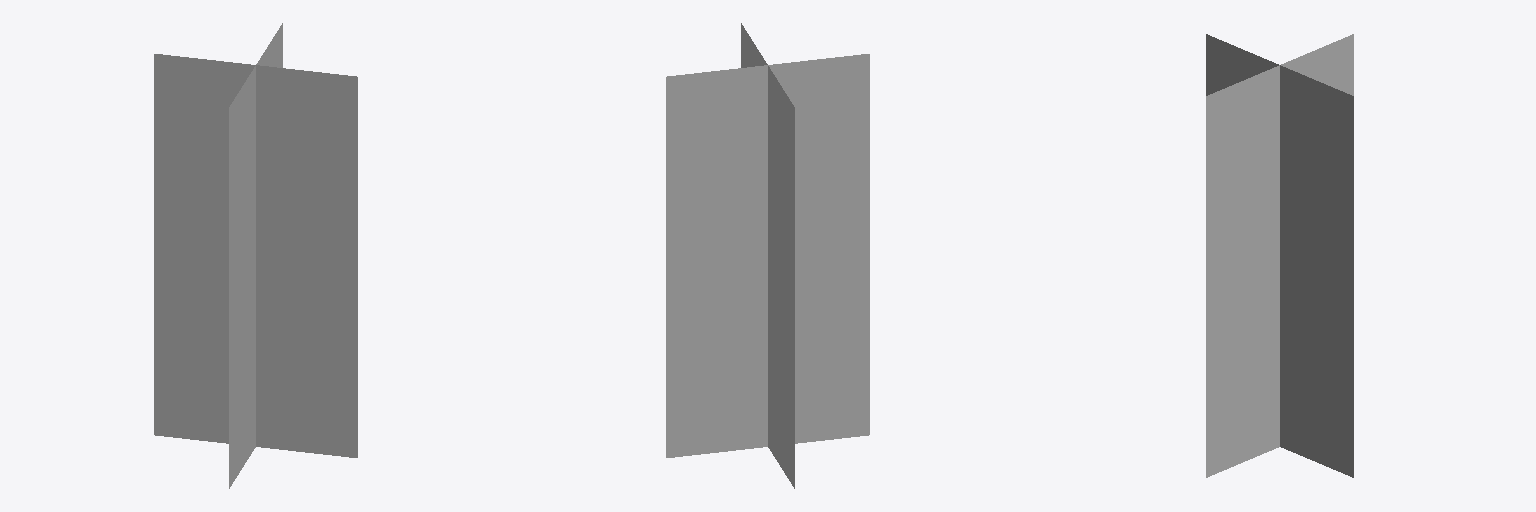
The model's file is double_plantlike_down.obj.
The picture shows the model from 3 angles: view 1: azimuth 30°, elevation 25°; view 2: azimuth 150°, elevation 25°; view 3: azimuth 270°, elevation 25°; orthographic projection.
Visible parts, largest first — view 1: cube; view 2: cube; view 3: cube.
Part boxes in pixels (x1,y1,x2,y2): cube: (154,23,357,488); cube: (666,23,869,488); cube: (1206,34,1353,477).
Size of the model in its own units: 0.7071 by 2 by 0.7071.